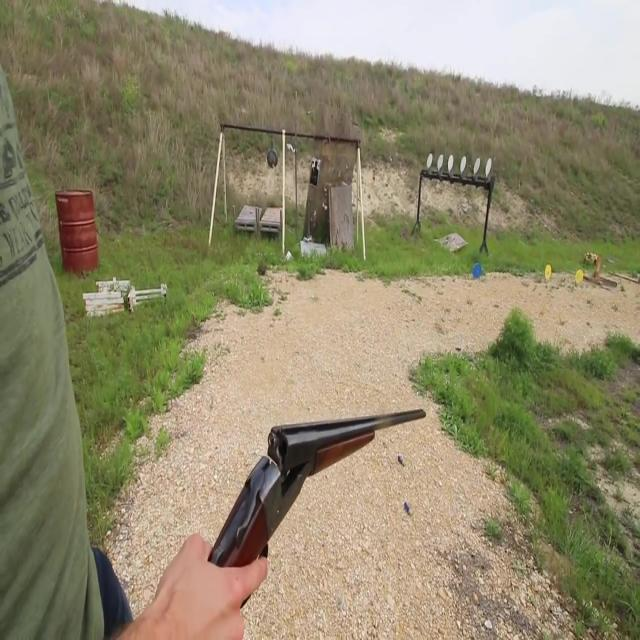Weapon: (182, 390, 438, 610)
